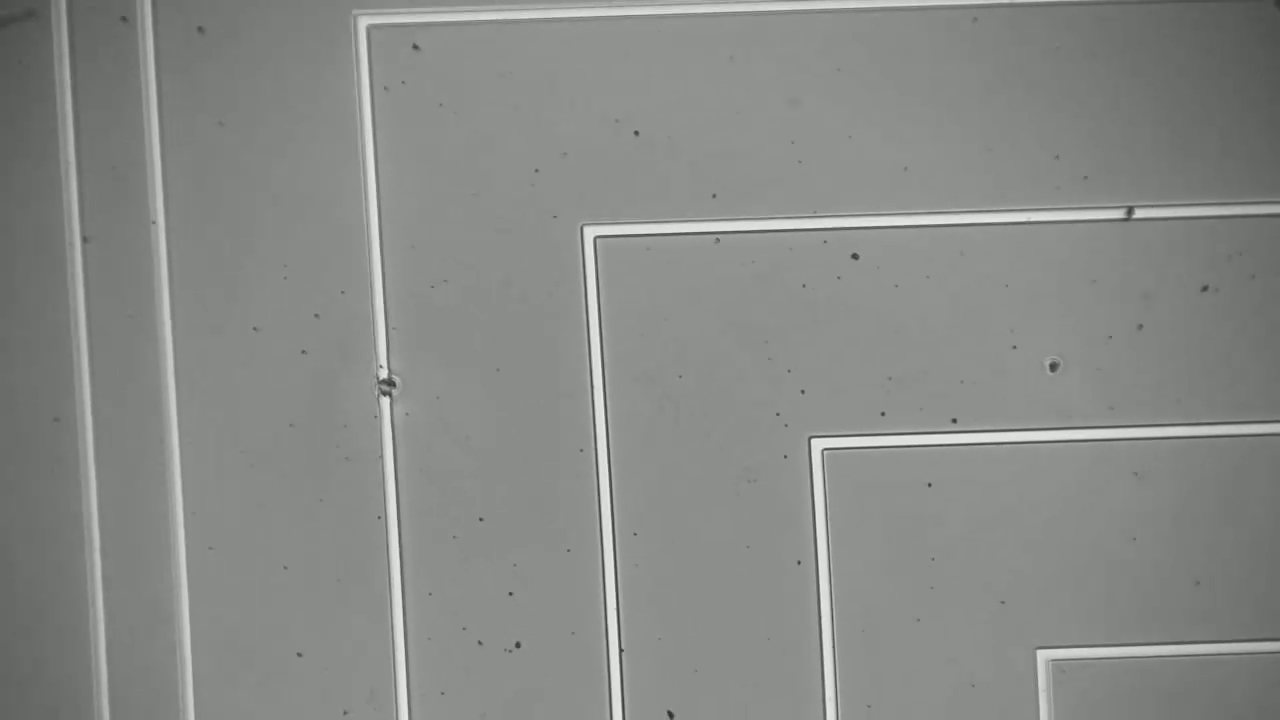stains_enbedded: (367, 364, 410, 412), (1120, 195, 1145, 234)
